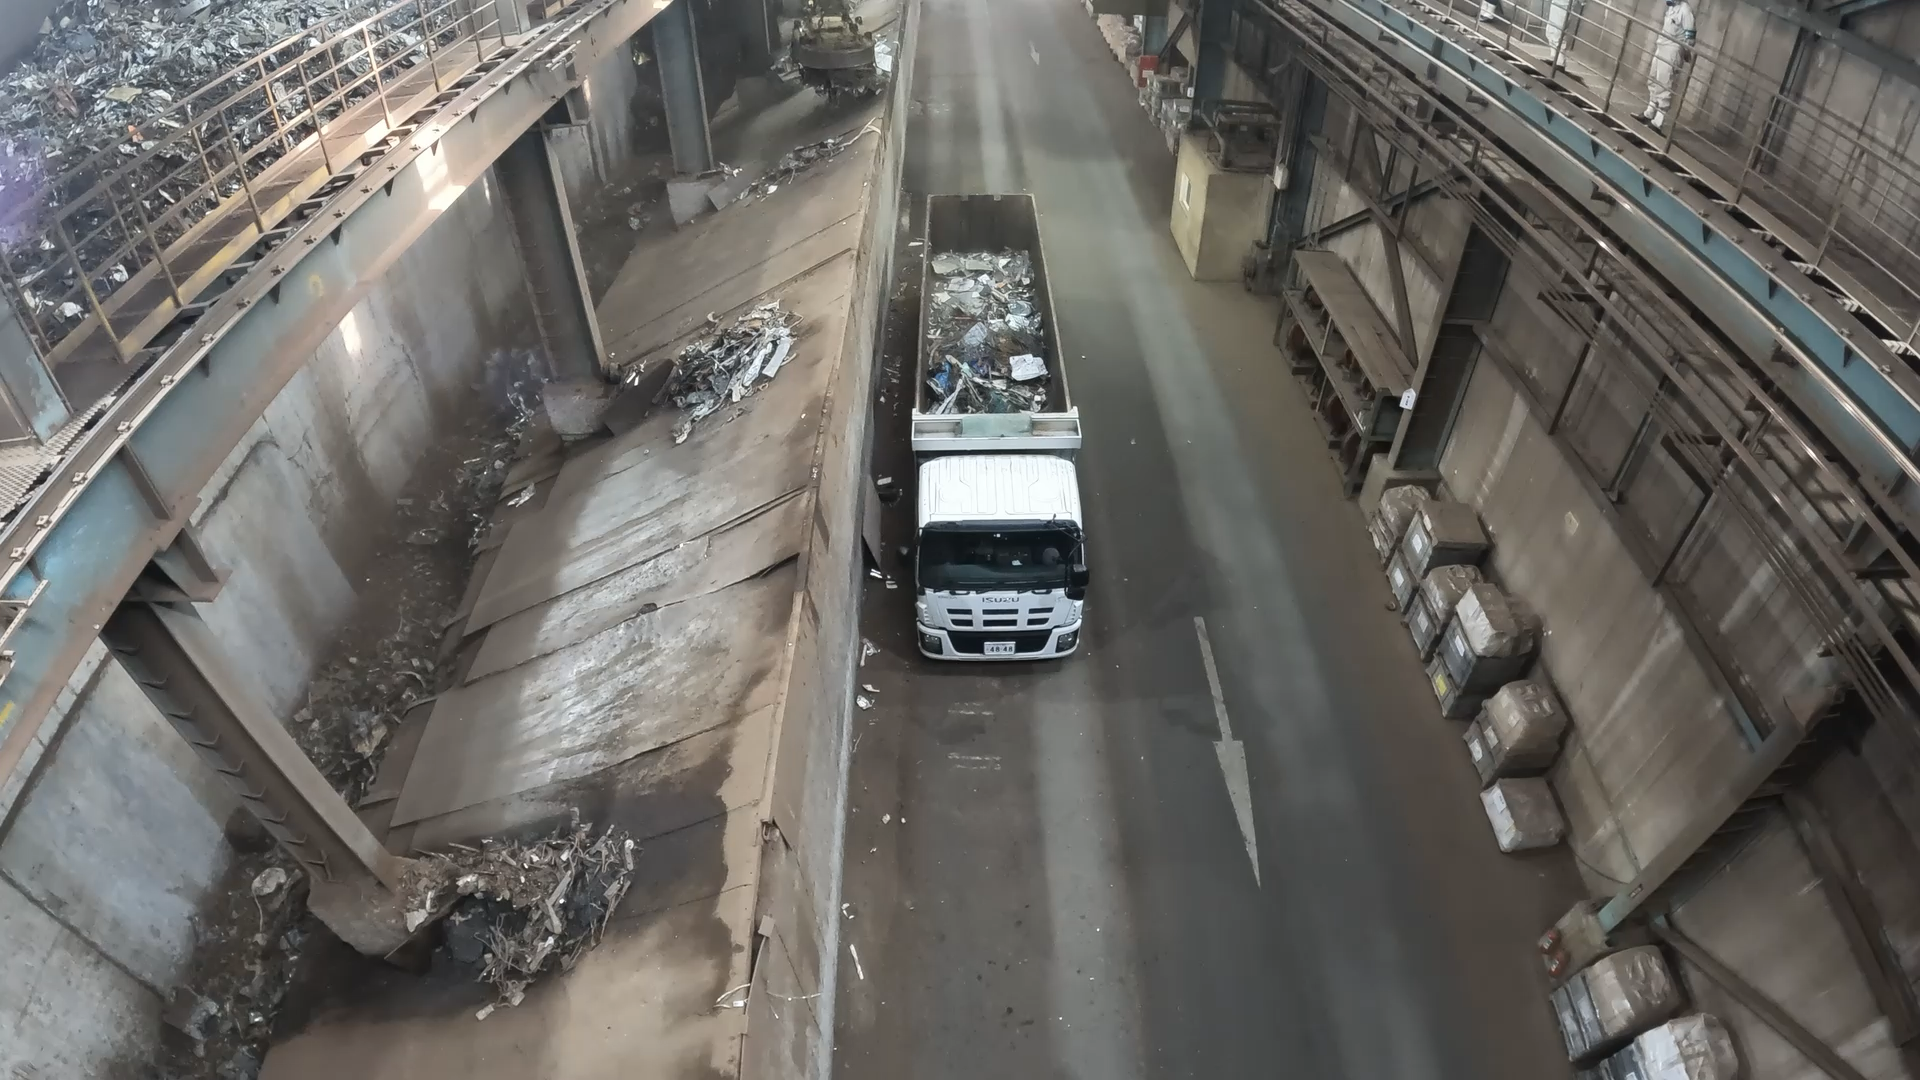truck: (916, 193, 1069, 417)
